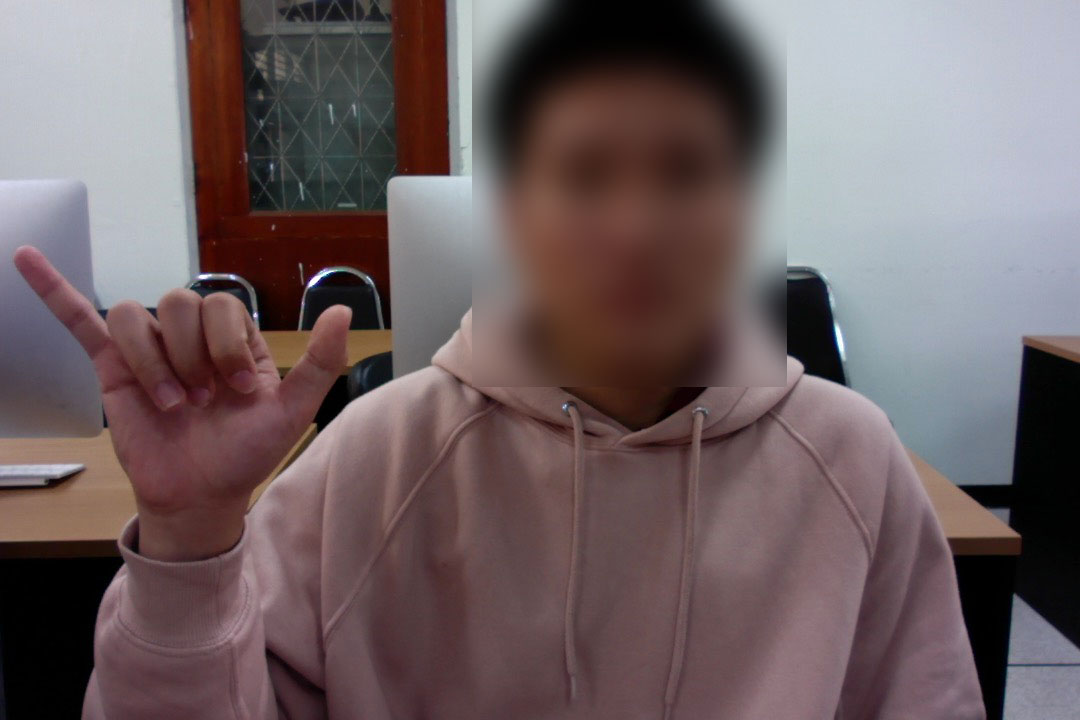yor: (11, 236, 370, 530)
